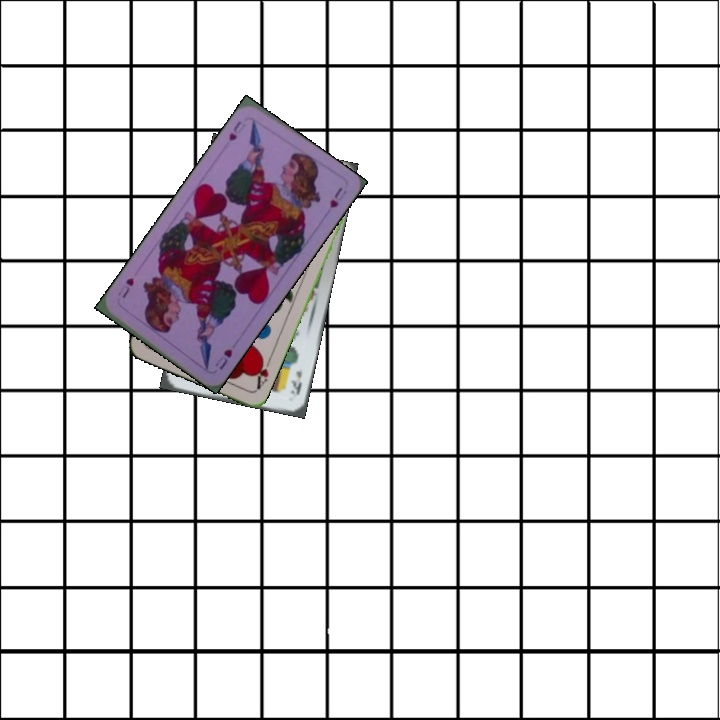EK: (286, 367, 304, 398)
HA: (250, 352, 273, 392)
HU: (210, 344, 235, 373), (224, 117, 248, 144)
